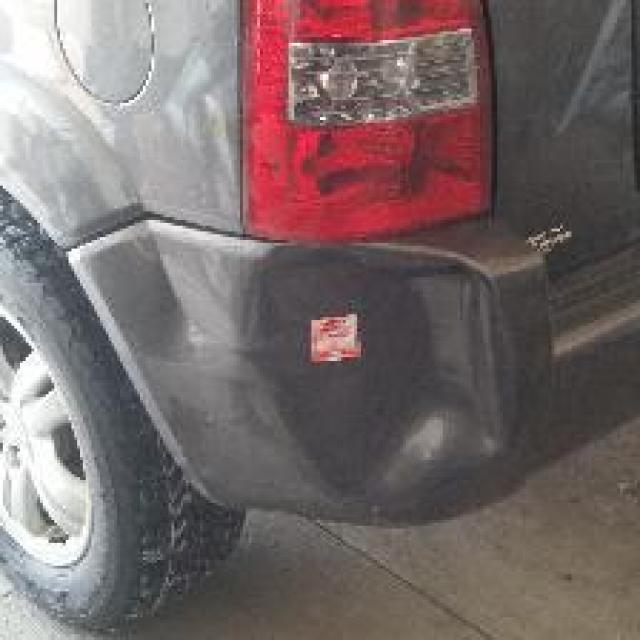damaged: (226, 242, 494, 514)
